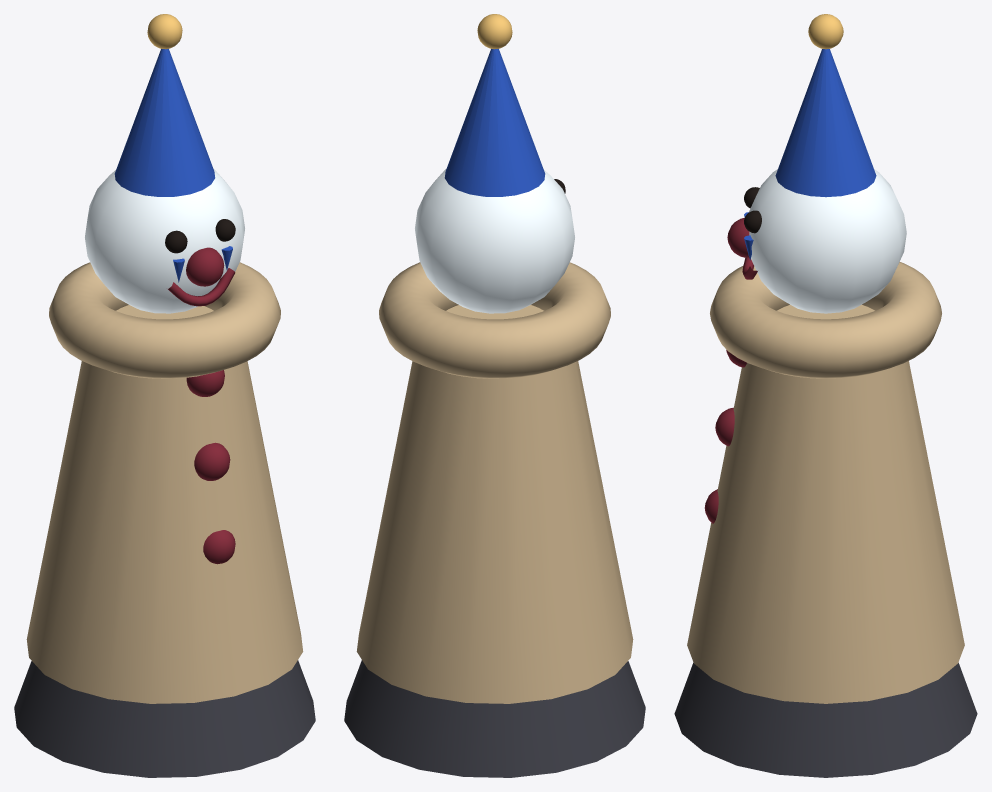
File: mia-clown_statue.glb
3 renders of one model, left to right at view 1: azimuth 30°, elevation 25°; view 2: azimuth 150°, elevation 25°; view 3: azimuth 270°, elevation 25°, orthographic.
Parts seen in each view (by area): view 1: Body_ivory, Body_stone, Body_porcelain, Body_flag-blue, Body_velvet, Body_trim, Body_black; view 2: Body_ivory, Body_stone, Body_porcelain, Body_flag-blue, Body_trim; view 3: Body_ivory, Body_stone, Body_porcelain, Body_flag-blue, Body_velvet, Body_trim, Body_black.
Part boxes in pixels (x1=…): Body_ivory: x1=26, y1=262, x2=303, y2=703; Body_stone: x1=14, y1=660, x2=315, y2=777; Body_porcelain: x1=85, y1=169, x2=244, y2=313; Body_flag-blue: x1=114, y1=49, x2=232, y2=282; Body_velvet: x1=168, y1=247, x2=235, y2=564; Body_trim: x1=147, y1=14, x2=182, y2=49; Body_black: x1=165, y1=219, x2=235, y2=253; Body_ivory: x1=356, y1=262, x2=633, y2=703; Body_stone: x1=344, y1=660, x2=645, y2=777; Body_porcelain: x1=415, y1=169, x2=574, y2=313; Body_flag-blue: x1=444, y1=49, x2=545, y2=196; Body_trim: x1=477, y1=14, x2=512, y2=49; Body_ivory: x1=687, y1=262, x2=964, y2=703; Body_stone: x1=674, y1=662, x2=977, y2=777; Body_porcelain: x1=748, y1=169, x2=906, y2=313; Body_flag-blue: x1=744, y1=49, x2=876, y2=260; Body_velvet: x1=704, y1=217, x2=757, y2=523; Body_trim: x1=808, y1=14, x2=843, y2=49; Body_black: x1=744, y1=187, x2=761, y2=233.
Bounding box in the file's own units: 1.2 × 3.05 × 1.2.
